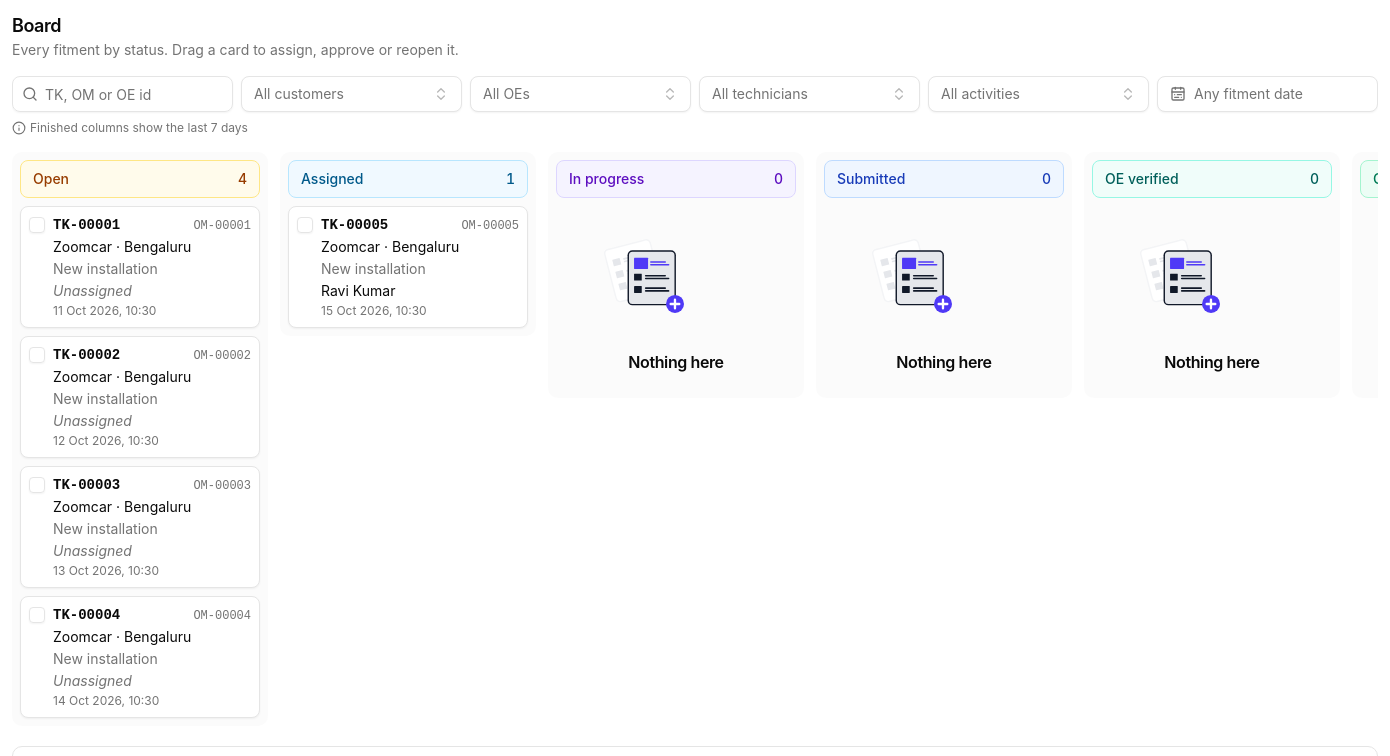
it: board (F07), desktop › Shift-click selects a range in the same column; a card in another column starts a new selection
This screenshot has width=1390, height=756.
Expected: the text "TK-00001" is shown, [53,215,120,235]
Click the checkbox named "Select TK-00001". click: click(37, 225)
box: [29,217,45,233]
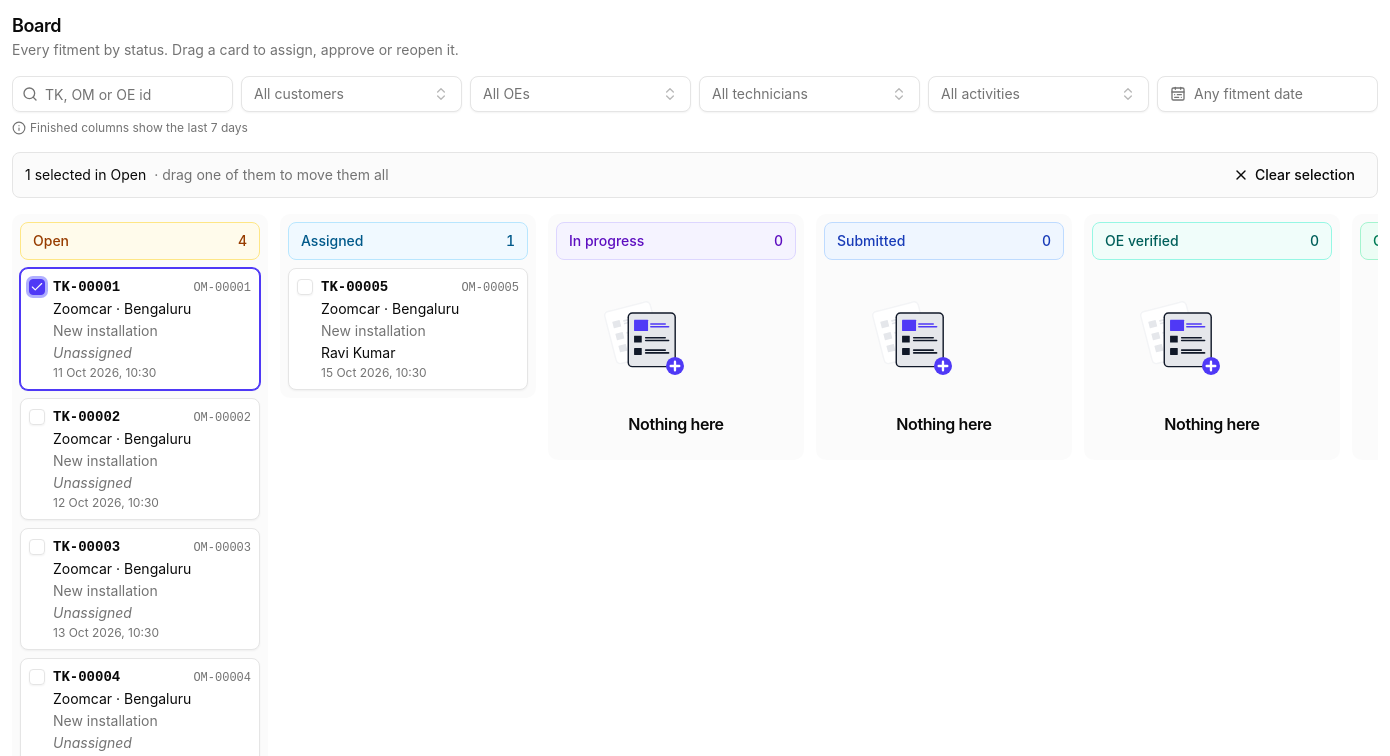
Type keys "{Shift>}"
Click the checkbox named "Select TK-00003". click: click(37, 547)
box: [29,539,45,555]
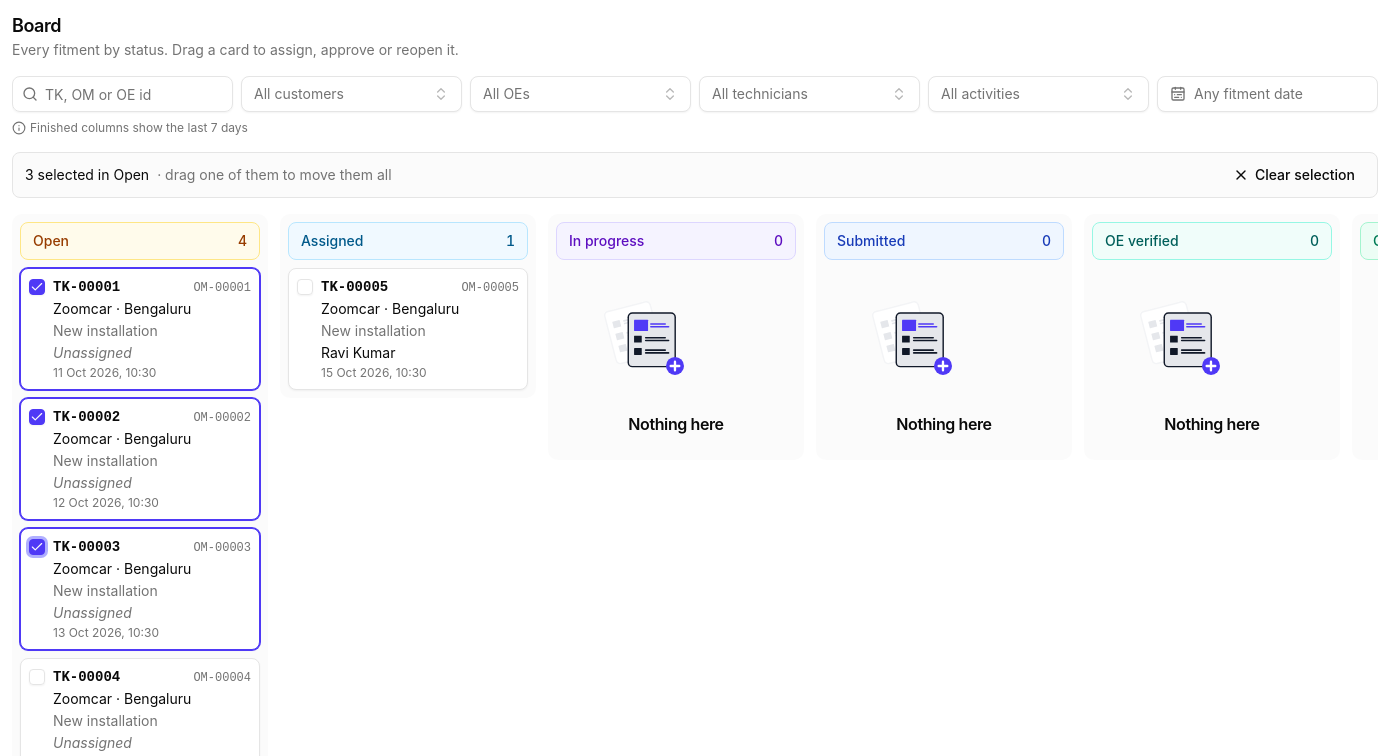
Type keys "{/Shift}"
Expected: the checkbox named "Select TK-00004" is not checked, [29,669,45,685]
Result: the element with test id "board-selection" shows "3 selected in Open" at [12,152,1378,198]
Click the checkbox named "Select TK-00005". click: click(305, 287)
box: [297,279,313,295]
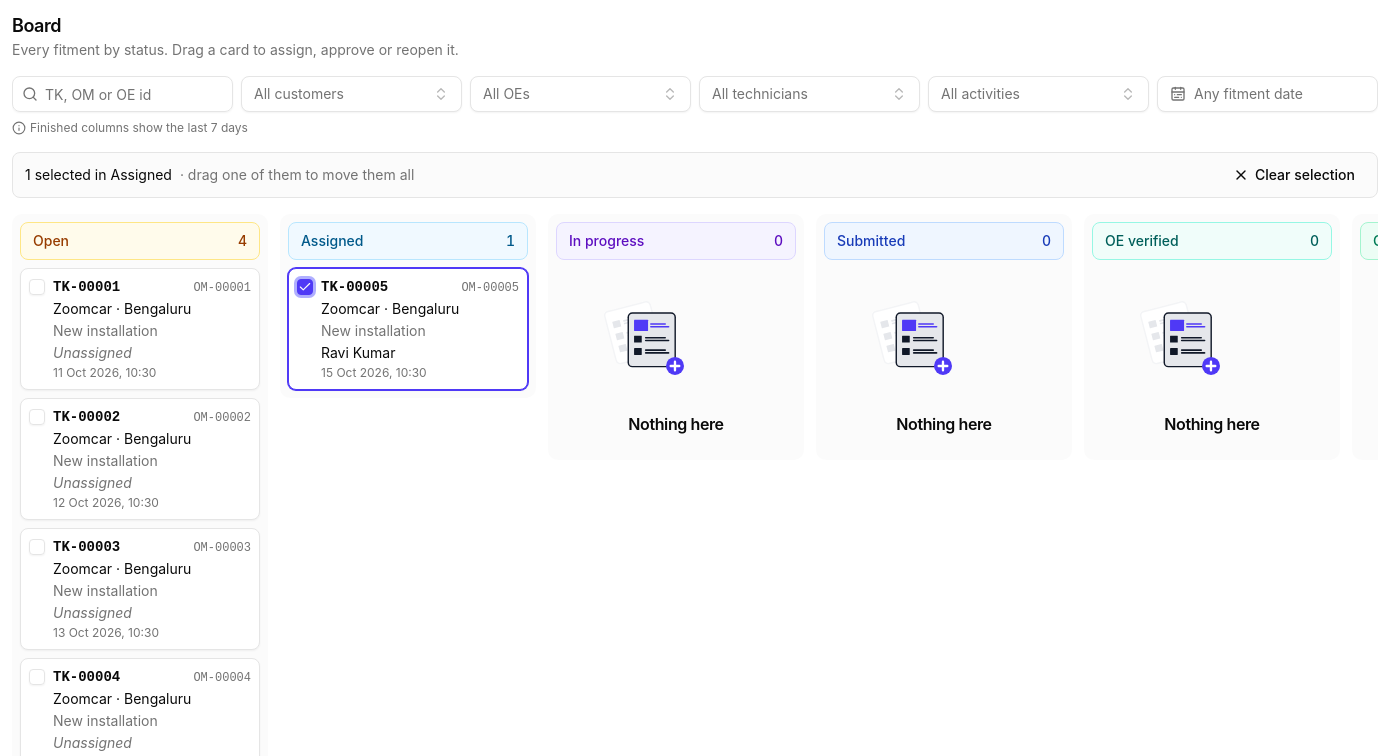
Result: the element with test id "board-selection" shows "1 selected in Assigned" at [12,152,1378,198]
